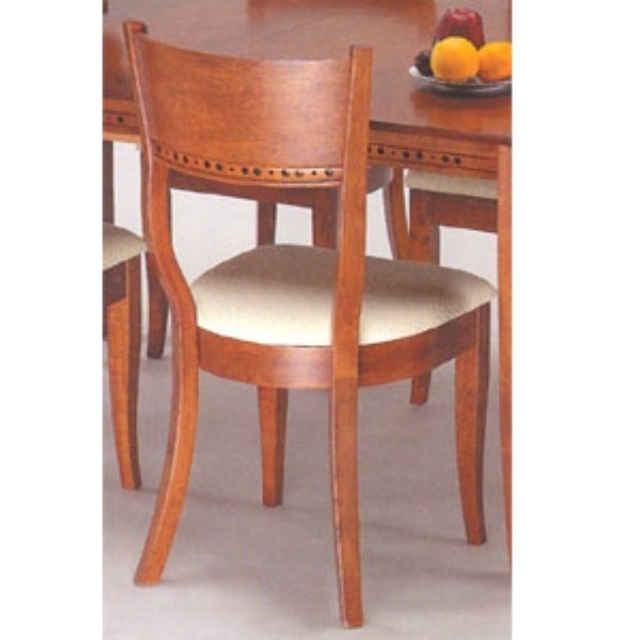obstacle: (111, 21, 506, 625)
